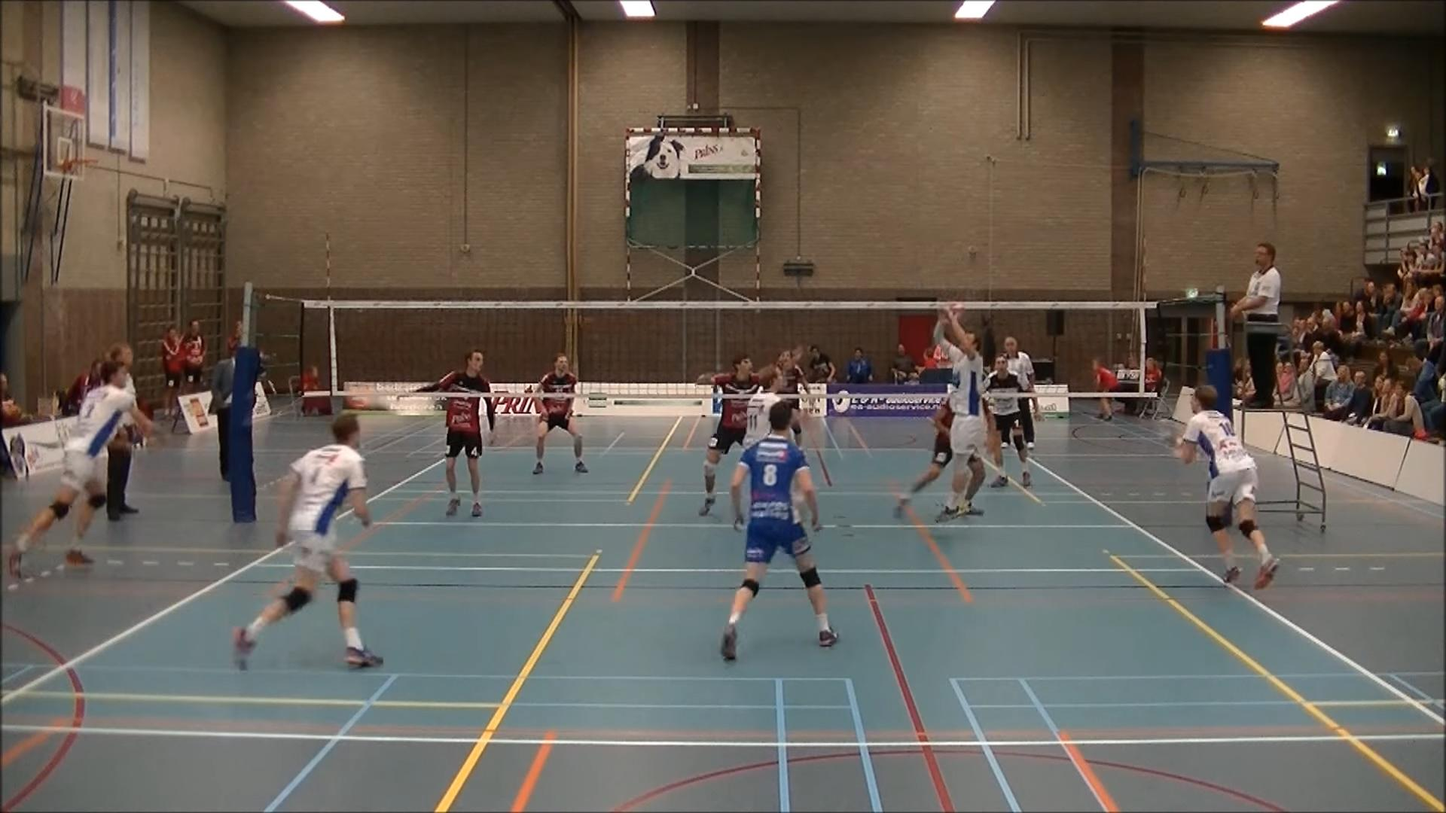Player: (233, 415, 382, 668), (8, 359, 151, 577), (721, 400, 837, 659), (1177, 385, 1280, 589), (418, 349, 496, 516), (697, 355, 759, 515), (894, 400, 953, 518), (533, 353, 587, 473), (985, 355, 1031, 487), (743, 368, 782, 448), (775, 347, 807, 444)
Set: (933, 300, 993, 528)
ball: (934, 296, 967, 329)
